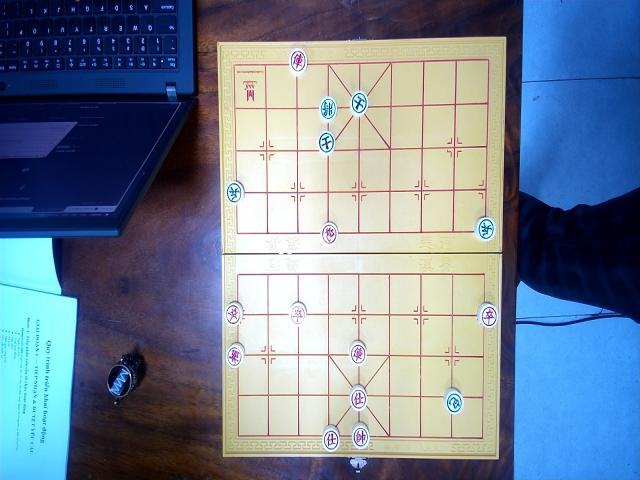piece: (288, 47, 308, 77), (474, 216, 496, 243), (443, 387, 463, 415), (350, 422, 370, 449), (225, 342, 245, 369), (477, 301, 497, 328), (322, 425, 341, 452), (224, 300, 243, 326), (318, 96, 337, 122), (349, 384, 367, 411), (348, 339, 366, 365), (225, 180, 244, 204), (350, 90, 368, 115), (318, 131, 336, 155), (320, 220, 337, 244), (290, 300, 306, 325)
